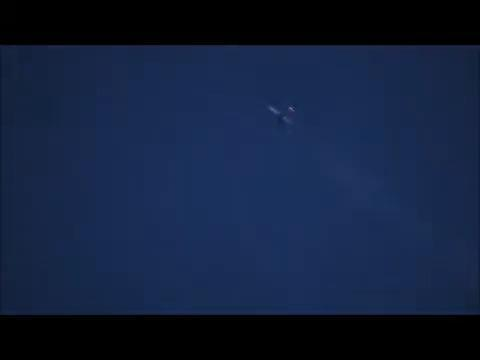Plane: (250, 97, 323, 141)
